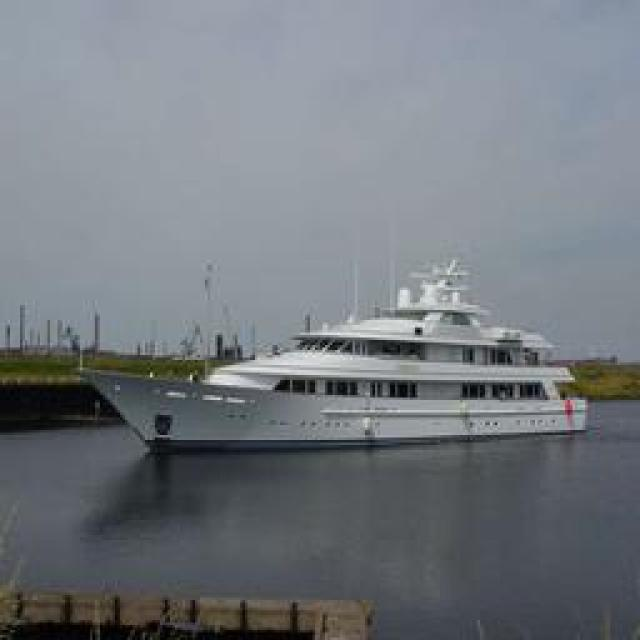ship2: (71, 259, 587, 447)
